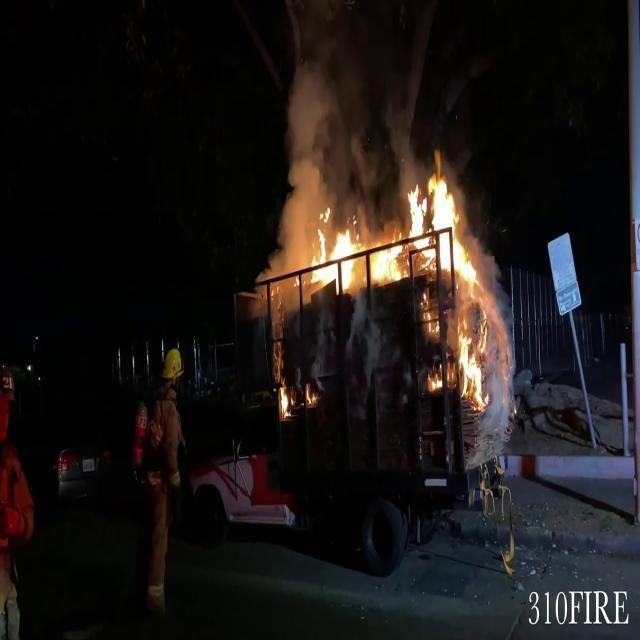Fire: (402, 162, 493, 402), (305, 208, 367, 298), (277, 377, 294, 423)
Smoke: (274, 0, 434, 242)
